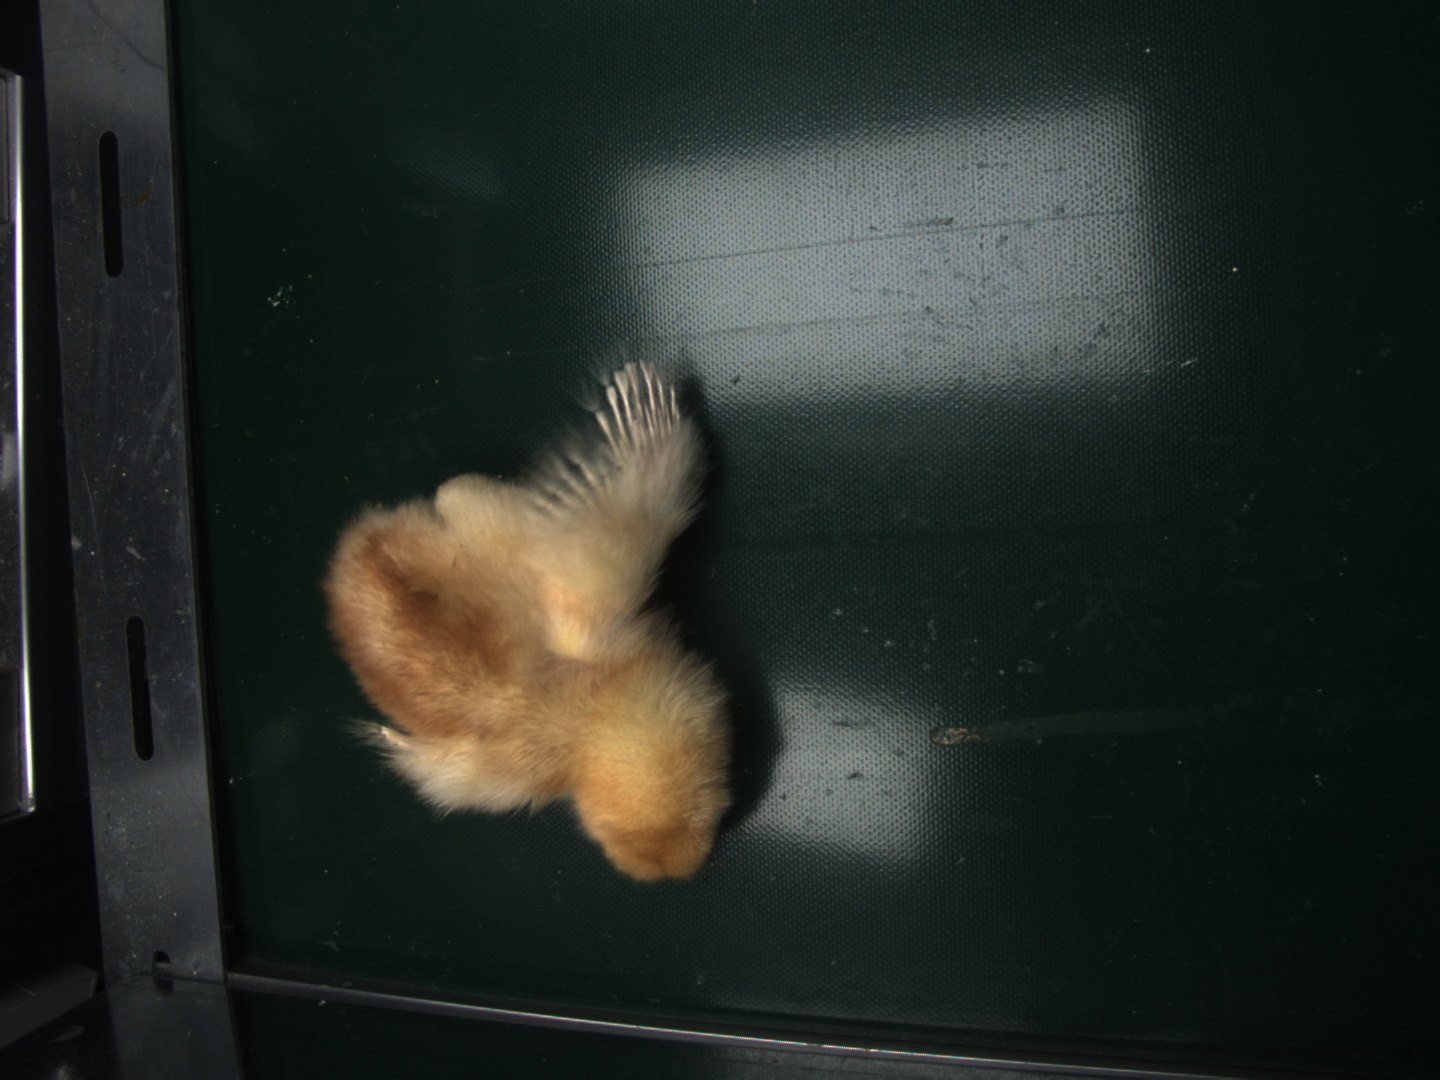female: (596, 363, 681, 452)
